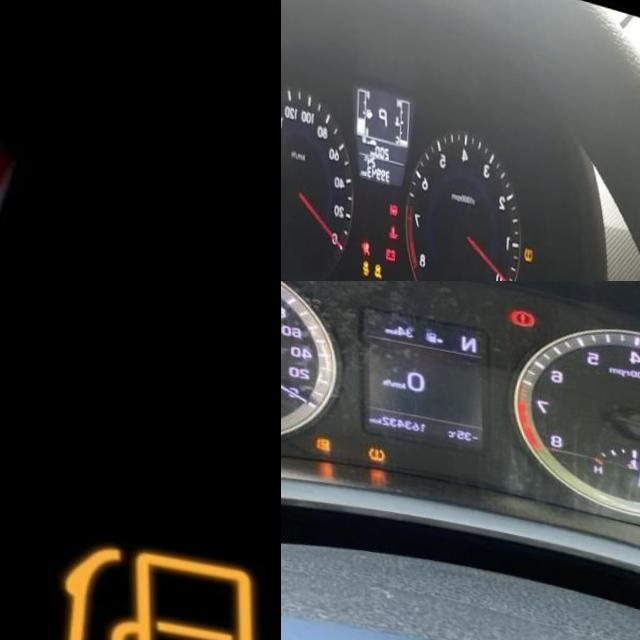Electronic Power Steering: (388, 191, 398, 205)
High Engine Coolant Temperature: (388, 213, 397, 228)
